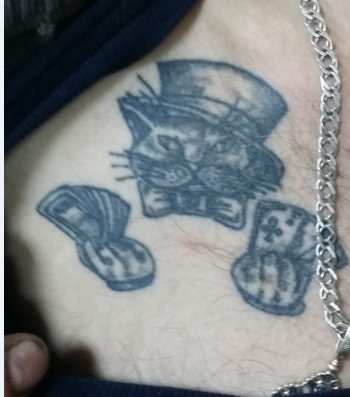tatu8_kot: (24, 48, 318, 323)
